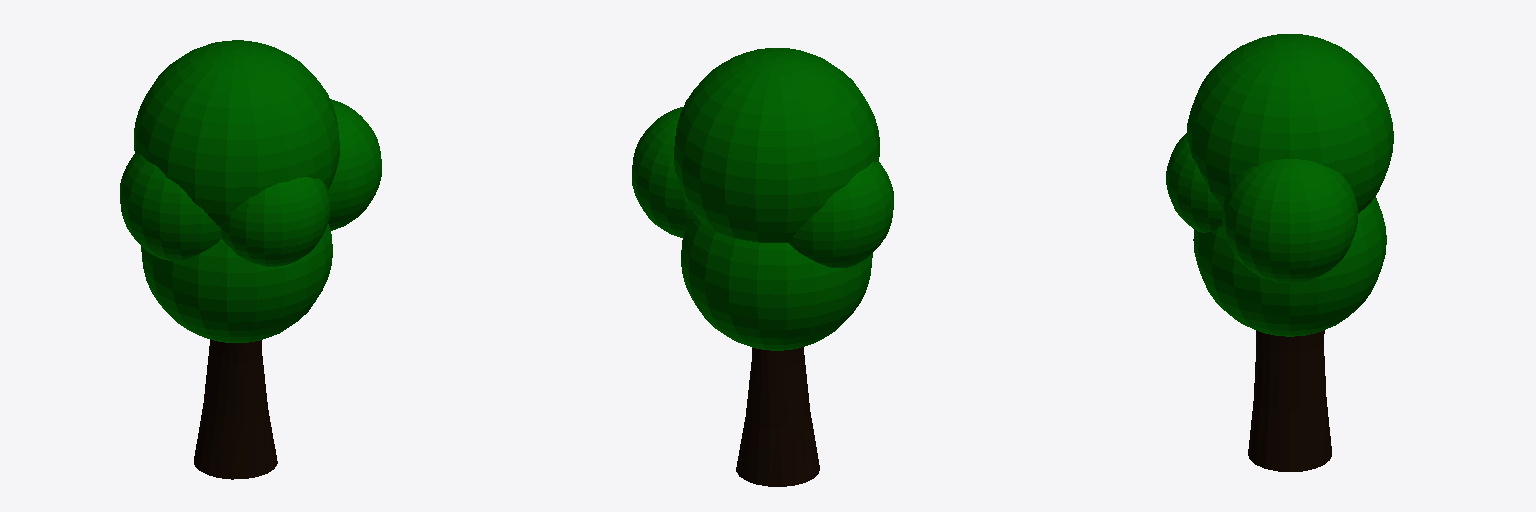
The model's file is TallTree.obj.
The picture shows the model from 3 angles: view 1: azimuth 30°, elevation 25°; view 2: azimuth 150°, elevation 25°; view 3: azimuth 270°, elevation 25°; orthographic projection.
Parts seen in each view (by area): view 1: pCylinder9; view 2: pCylinder9; view 3: pCylinder9.
Part boxes in pixels (left/top/right/bottom): pCylinder9: left=120, top=40, right=381, bottom=479; pCylinder9: left=632, top=48, right=893, bottom=486; pCylinder9: left=1166, top=34, right=1393, bottom=471.
Size of the model in its own units: 6.22 by 9.98 by 5.01.